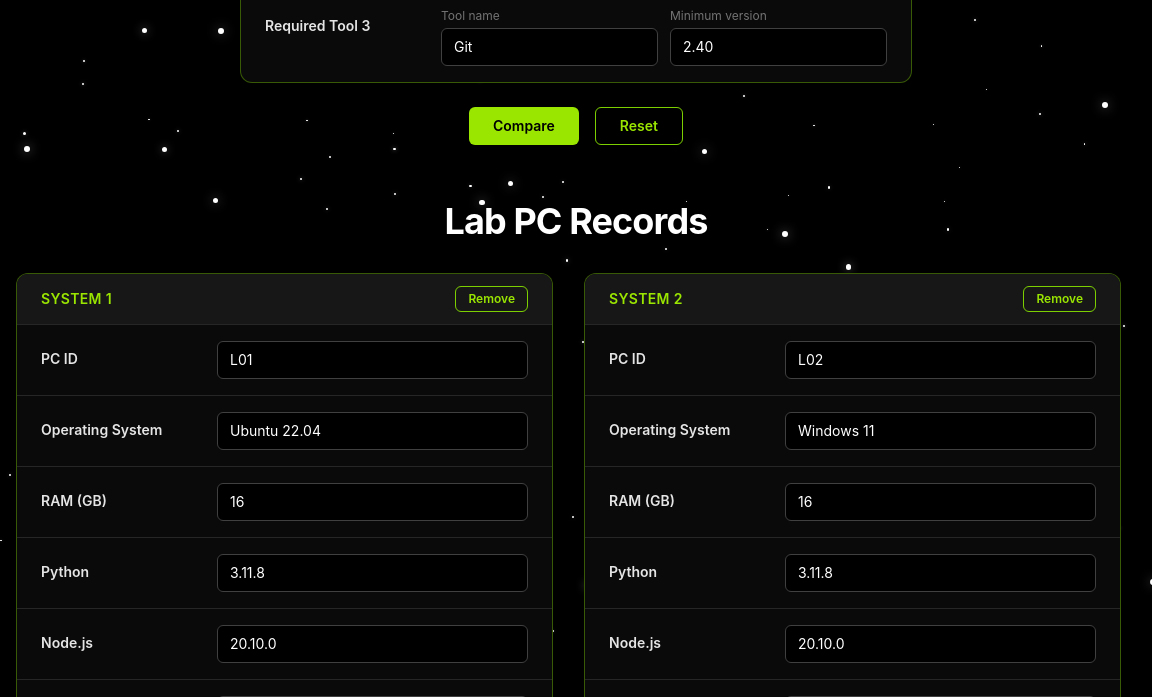
Test case: App (Section 2: PC Records) › shows a duplicate PC ID error when two ids collide
The width and height of the screenshot is (1152, 697).
(page scrolled)
Replace the text in the 2nd field labelled "PC ID" with "L01" at (940, 360), box x1=785 y1=341 x2=1096 y2=379
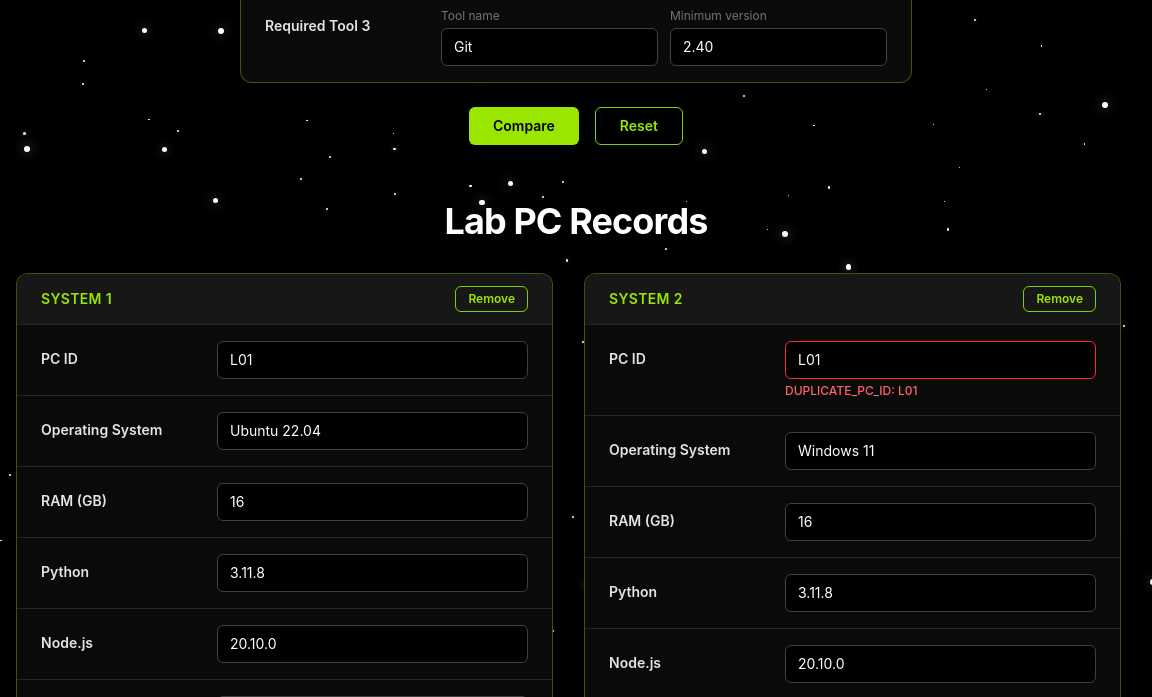
Check: the text "DUPLICATE_PC_ID: L01" is shown, box x1=785 y1=383 x2=918 y2=398
